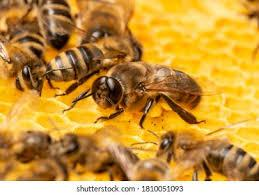worker-bee: (84, 61, 217, 127), (45, 36, 141, 95), (157, 129, 258, 180), (77, 0, 134, 42), (29, 0, 74, 49)
